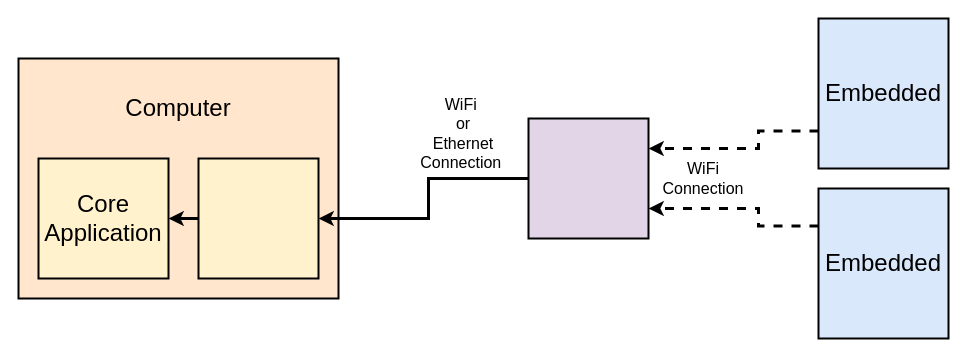
Image size: 966x356. Some labels were removed from this diagram. The centre of each missing label's shape, as x and y in pixels:
MQTT Broker: the point at 258,218
Router: the point at 588,178
